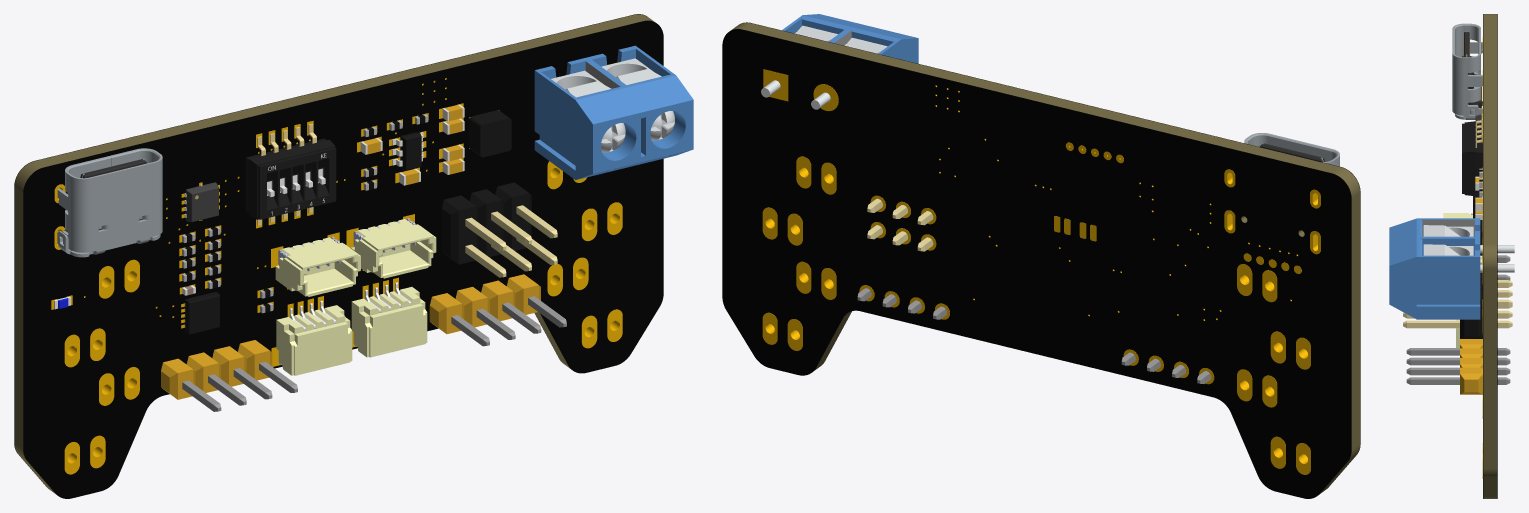
Rendered from unit_3d_v_1_0_0_ue0113_Power_Supply_for_Breadboard.glb.
3 renders of one model, left to right at view 1: azimuth 30°, elevation 25°; view 2: azimuth 150°, elevation 25°; view 3: azimuth 270°, elevation 25°, orthographic. The views are drawn at different scales.
Visible parts, largest first — view 1: colour-28, colour-13, colour-26, colour-1, colour-17, colour-0, colour-11, colour-8, colour-20, colour-10, colour-9, colour-27 (+6 smaller); view 2: colour-28, colour-1, colour-0, colour-26, colour-10, colour-27, colour-17, colour-9; view 3: colour-26, colour-0, colour-10, colour-17, colour-27, colour-11, colour-20, colour-9, colour-28, colour-8, colour-1, colour-13 (+3 smaller).
Boxes of the visible parts, x1,y1,x2,y2 form: colour-28: (14, 14, 663, 498); colour-13: (275, 219, 436, 375); colour-26: (534, 45, 693, 179); colour-1: (51, 62, 622, 474); colour-17: (57, 148, 162, 257); colour-0: (14, 14, 654, 493); colour-11: (161, 105, 540, 399); colour-8: (185, 110, 531, 334); colour-20: (245, 138, 336, 219); colour-10: (182, 61, 620, 411); colour-9: (465, 205, 557, 277); colour-27: (551, 58, 674, 152); colour-28: (722, 22, 1360, 498); colour-1: (762, 69, 1320, 474); colour-0: (730, 22, 1360, 494); colour-26: (782, 14, 918, 63); colour-10: (834, 30, 1211, 383); colour-27: (761, 25, 887, 109); colour-17: (1244, 133, 1339, 166); colour-9: (867, 198, 933, 251); colour-26: (1389, 218, 1480, 319); colour-0: (1483, 14, 1496, 498); colour-10: (1406, 219, 1510, 384); colour-17: (1452, 23, 1482, 119); colour-27: (1423, 225, 1514, 272); colour-11: (1460, 177, 1482, 394); colour-20: (1462, 121, 1482, 195); colour-9: (1403, 280, 1512, 328); colour-28: (1483, 14, 1497, 498); colour-8: (1460, 193, 1482, 338); colour-1: (1482, 38, 1482, 478); colour-13: (1443, 213, 1481, 347).
Bounding box in the file's own units: 63.5 × 32 × 13.75.
